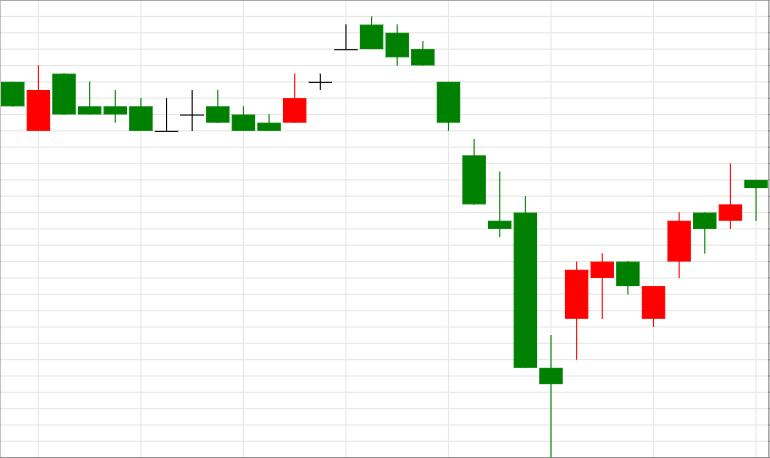morning_star_rise: (359, 17, 589, 457)
